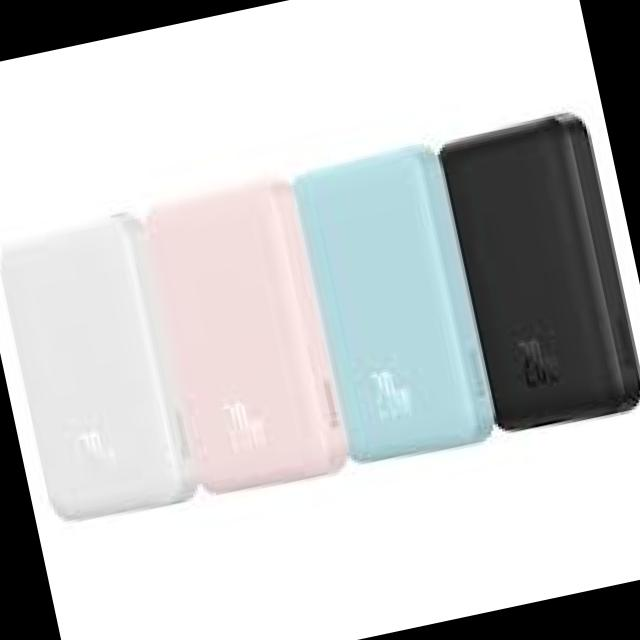power_bank: (132, 173, 354, 502), (435, 108, 640, 439), (293, 140, 498, 466), (0, 207, 201, 536)
